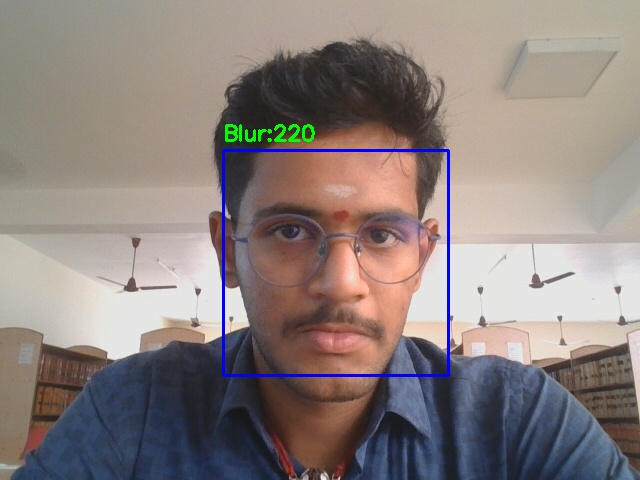real: (223, 150, 448, 375)
